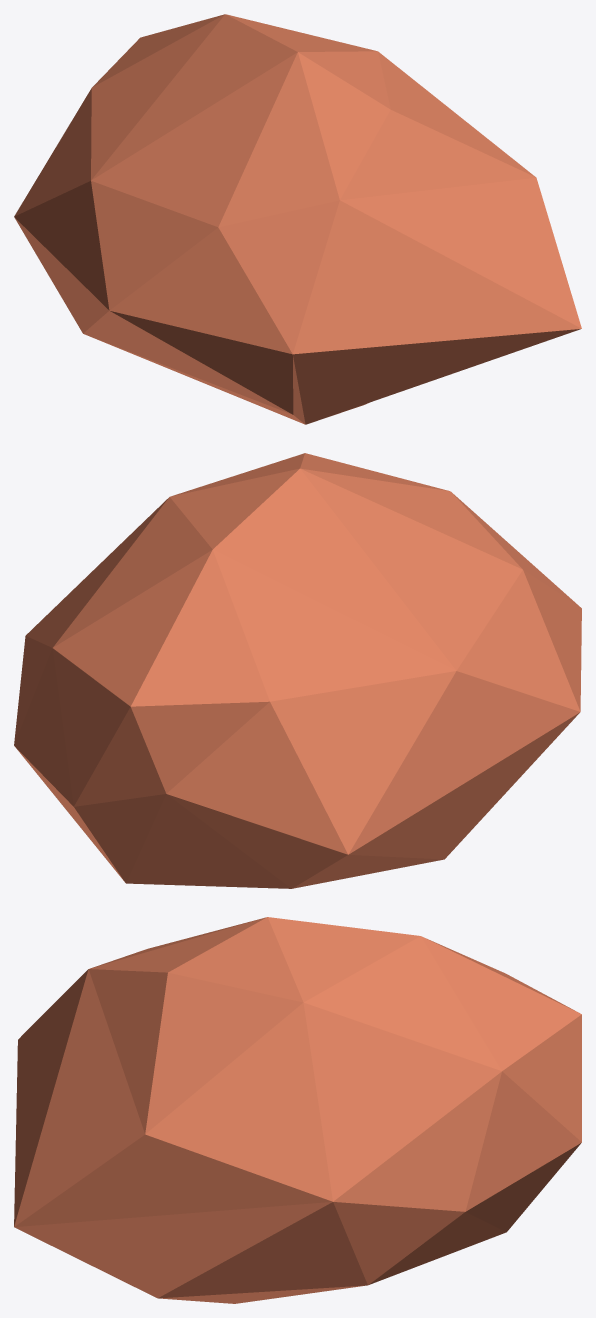
The model's file is Rock-col.glb.
The picture shows the model from 3 angles, top to bottom: view 1: azimuth 30°, elevation 25°; view 2: azimuth 150°, elevation 25°; view 3: azimuth 270°, elevation 25°; orthographic projection. The views are drawn at different scales.
Parts seen in each view (by area): view 1: Rock-col; view 2: Rock-col; view 3: Rock-col.
Boxes of the visible parts, x1,y1,x2,y2 form: Rock-col: (14,14,581,424); Rock-col: (14,453,581,888); Rock-col: (14,917,581,1303).
Bounding box in the file's own units: 4.6 × 3.62 × 5.15.
